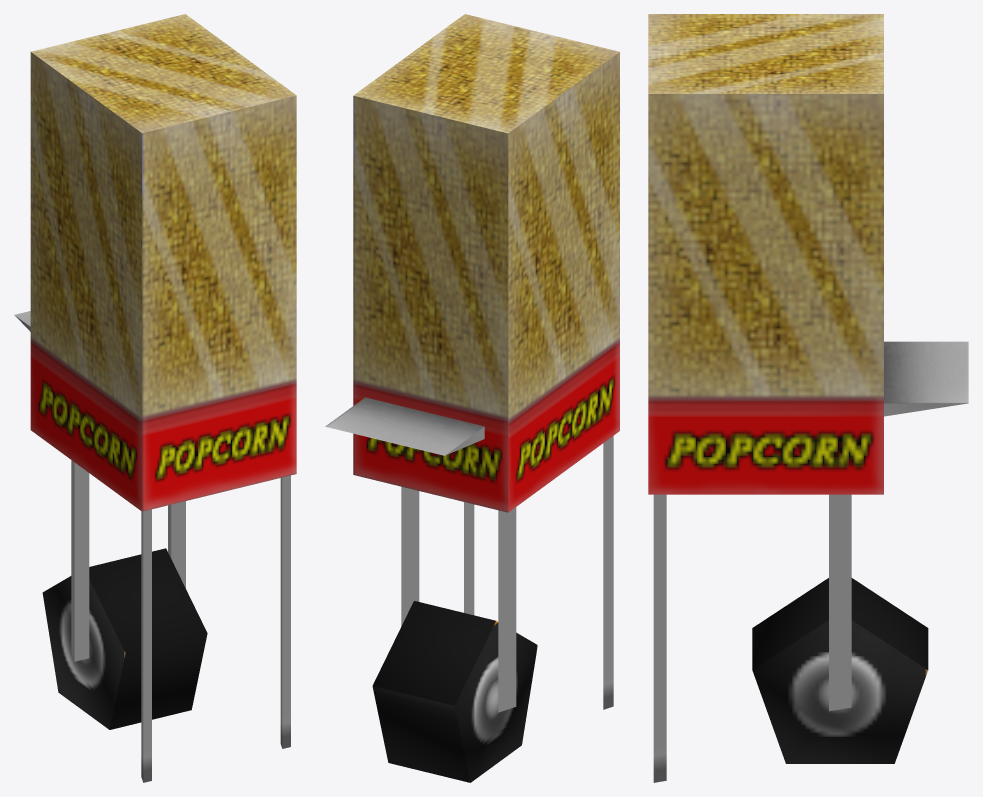
Rendered from Popcorn_Cart.fbx.
The picture shows the model from 3 angles, left to right: view 1: azimuth 30°, elevation 25°; view 2: azimuth 150°, elevation 25°; view 3: azimuth 270°, elevation 25°; orthographic projection. The views are drawn at different scales.
Parts seen in each view (by area): view 1: Popcorn_Cart; view 2: Popcorn_Cart; view 3: Popcorn_Cart.
Boxes of the visible parts, x1=… form: Popcorn_Cart: x1=14, y1=14, x2=296, y2=782; Popcorn_Cart: x1=325, y1=14, x2=619, y2=782; Popcorn_Cart: x1=648, y1=14, x2=968, y2=782.
Size of the model in its own units: 43.19 by 174 by 73.22.
